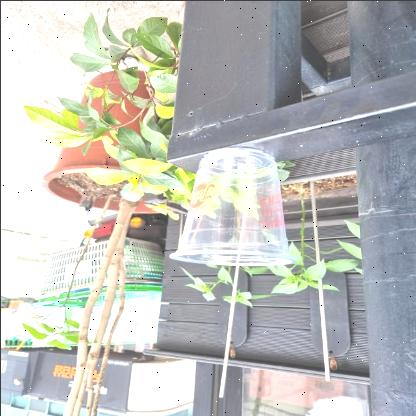Others: (163, 143, 303, 271)
